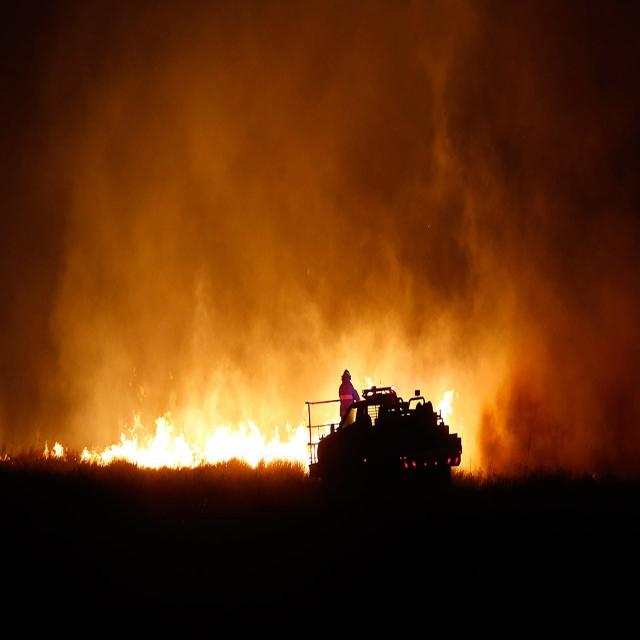Fire: (40, 374, 496, 484)
Smoke: (68, 0, 592, 431)
